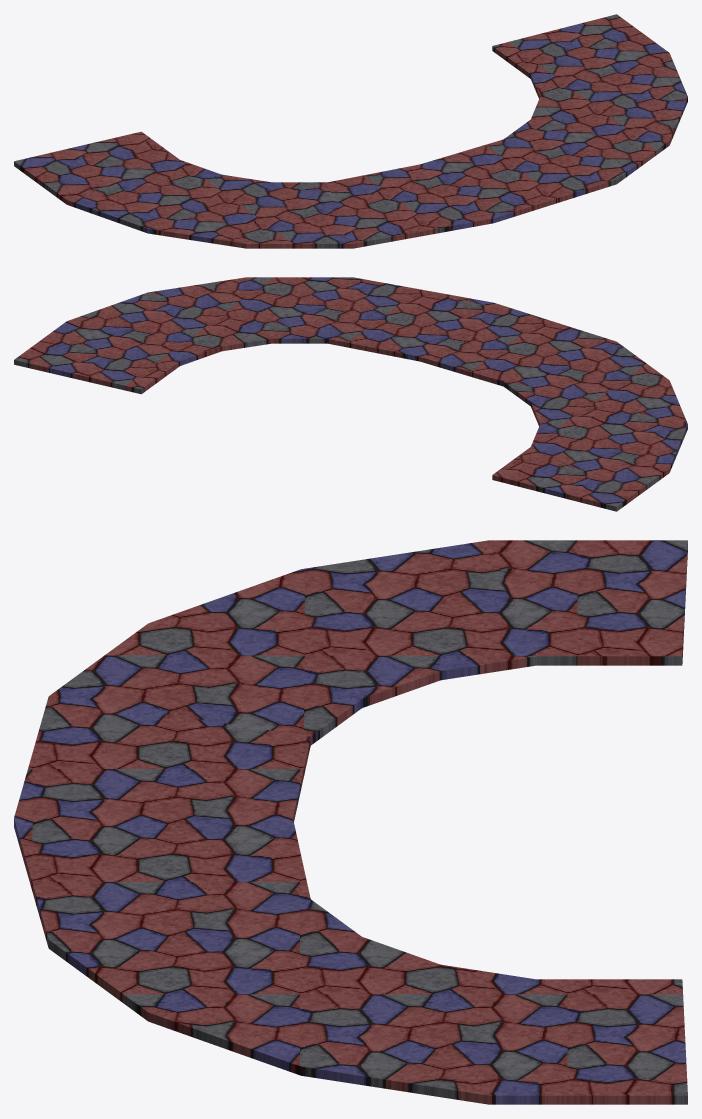
Rendered from Full Curve.fbx.
3 views of the same model, one above another, from view 1: azimuth 30°, elevation 25°; view 2: azimuth 150°, elevation 25°; view 3: azimuth 270°, elevation 25° (orthographic). The views are drawn at different scales.
Parts seen in each view (by area): view 1: true cruve bottom; view 2: true cruve bottom; view 3: true cruve bottom.
Part boxes in pixels (<box>): true cruve bottom: <box>14,14,687,248</box>; true cruve bottom: <box>14,277,687,511</box>; true cruve bottom: <box>14,540,687,1104</box>.
Bounding box in the file's own units: 1839 × 14 × 943.
Materials: 1 (1 with a texture image).
